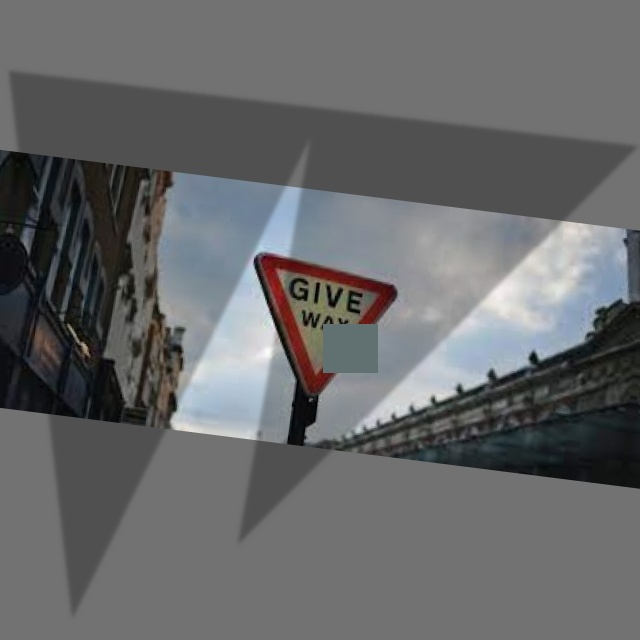Give_Way: (250, 252, 398, 402)
